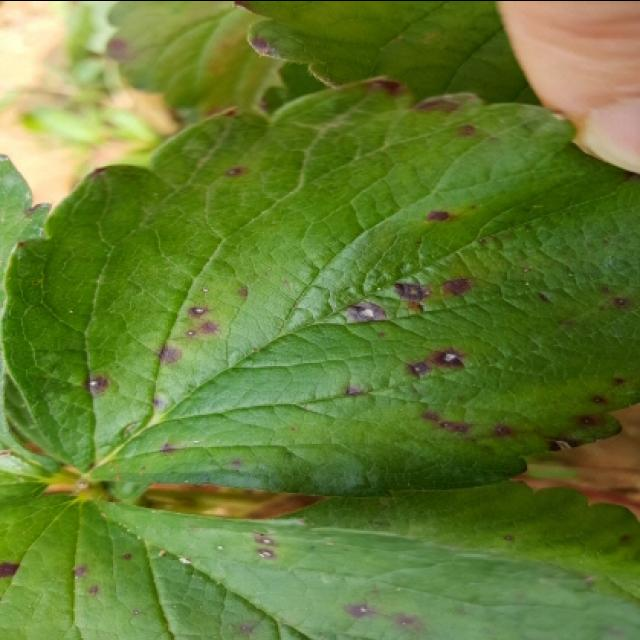Leaf Spot: (0, 75, 638, 498), (0, 493, 638, 638), (272, 479, 638, 605)
